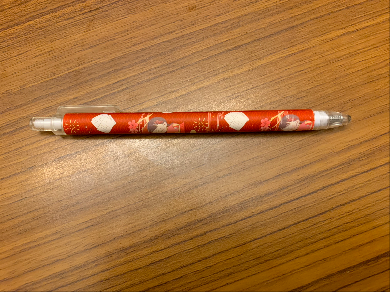object_name: (24, 89, 359, 152)
